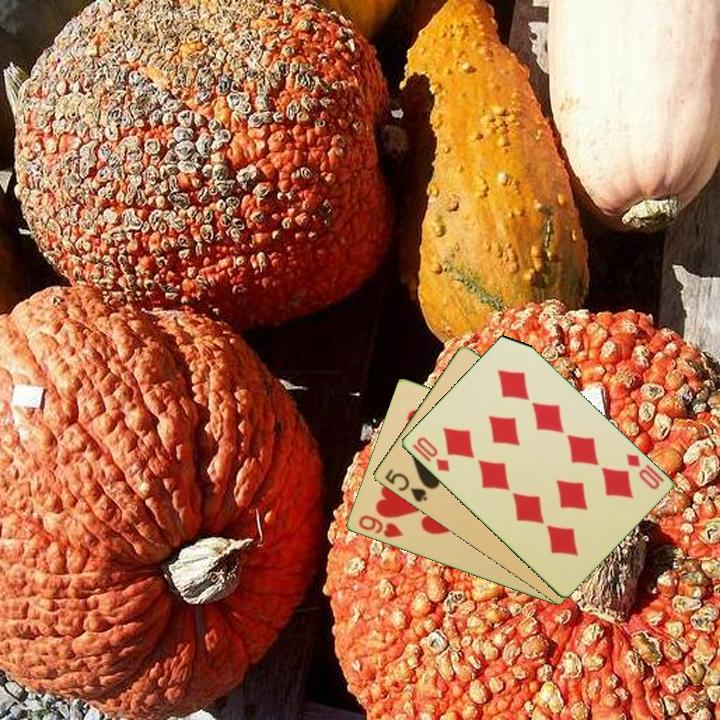10d: (622, 450, 667, 493), (412, 433, 452, 475)
5s: (381, 465, 430, 505)
9h: (355, 512, 406, 541)
